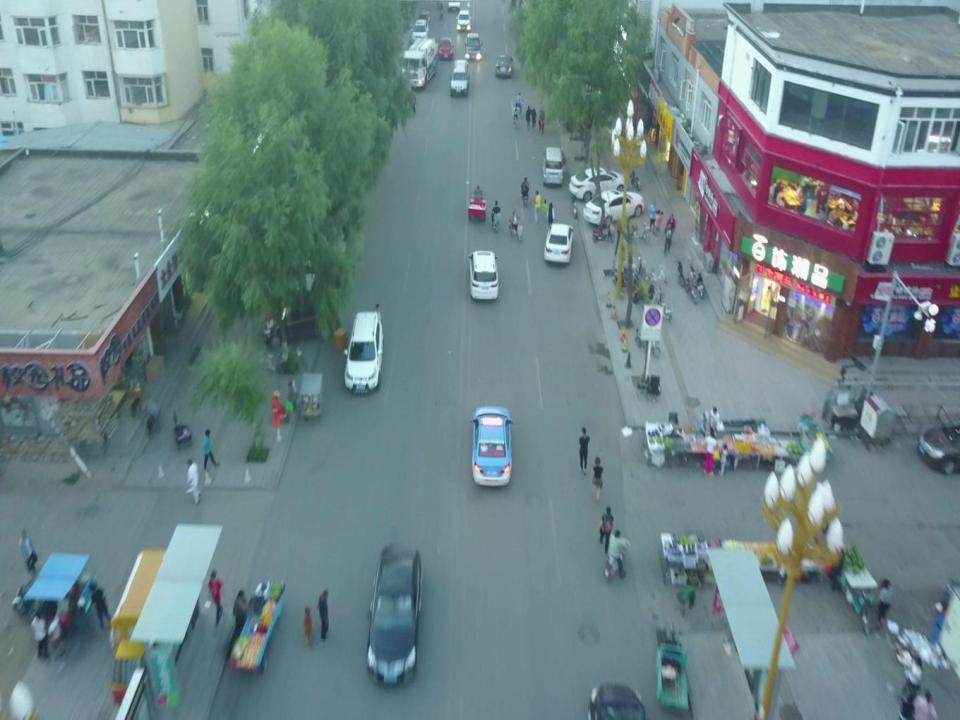car: (368, 543, 421, 688), (470, 406, 513, 485), (264, 230, 313, 292), (344, 312, 379, 392), (582, 190, 646, 230), (919, 424, 960, 472), (570, 166, 623, 200), (469, 251, 499, 302), (544, 223, 573, 263), (464, 32, 480, 60), (412, 17, 428, 41), (438, 36, 453, 60), (497, 54, 513, 76), (457, 9, 471, 32)
truck: (402, 36, 434, 90), (451, 60, 471, 96)
van: (543, 147, 565, 185)
